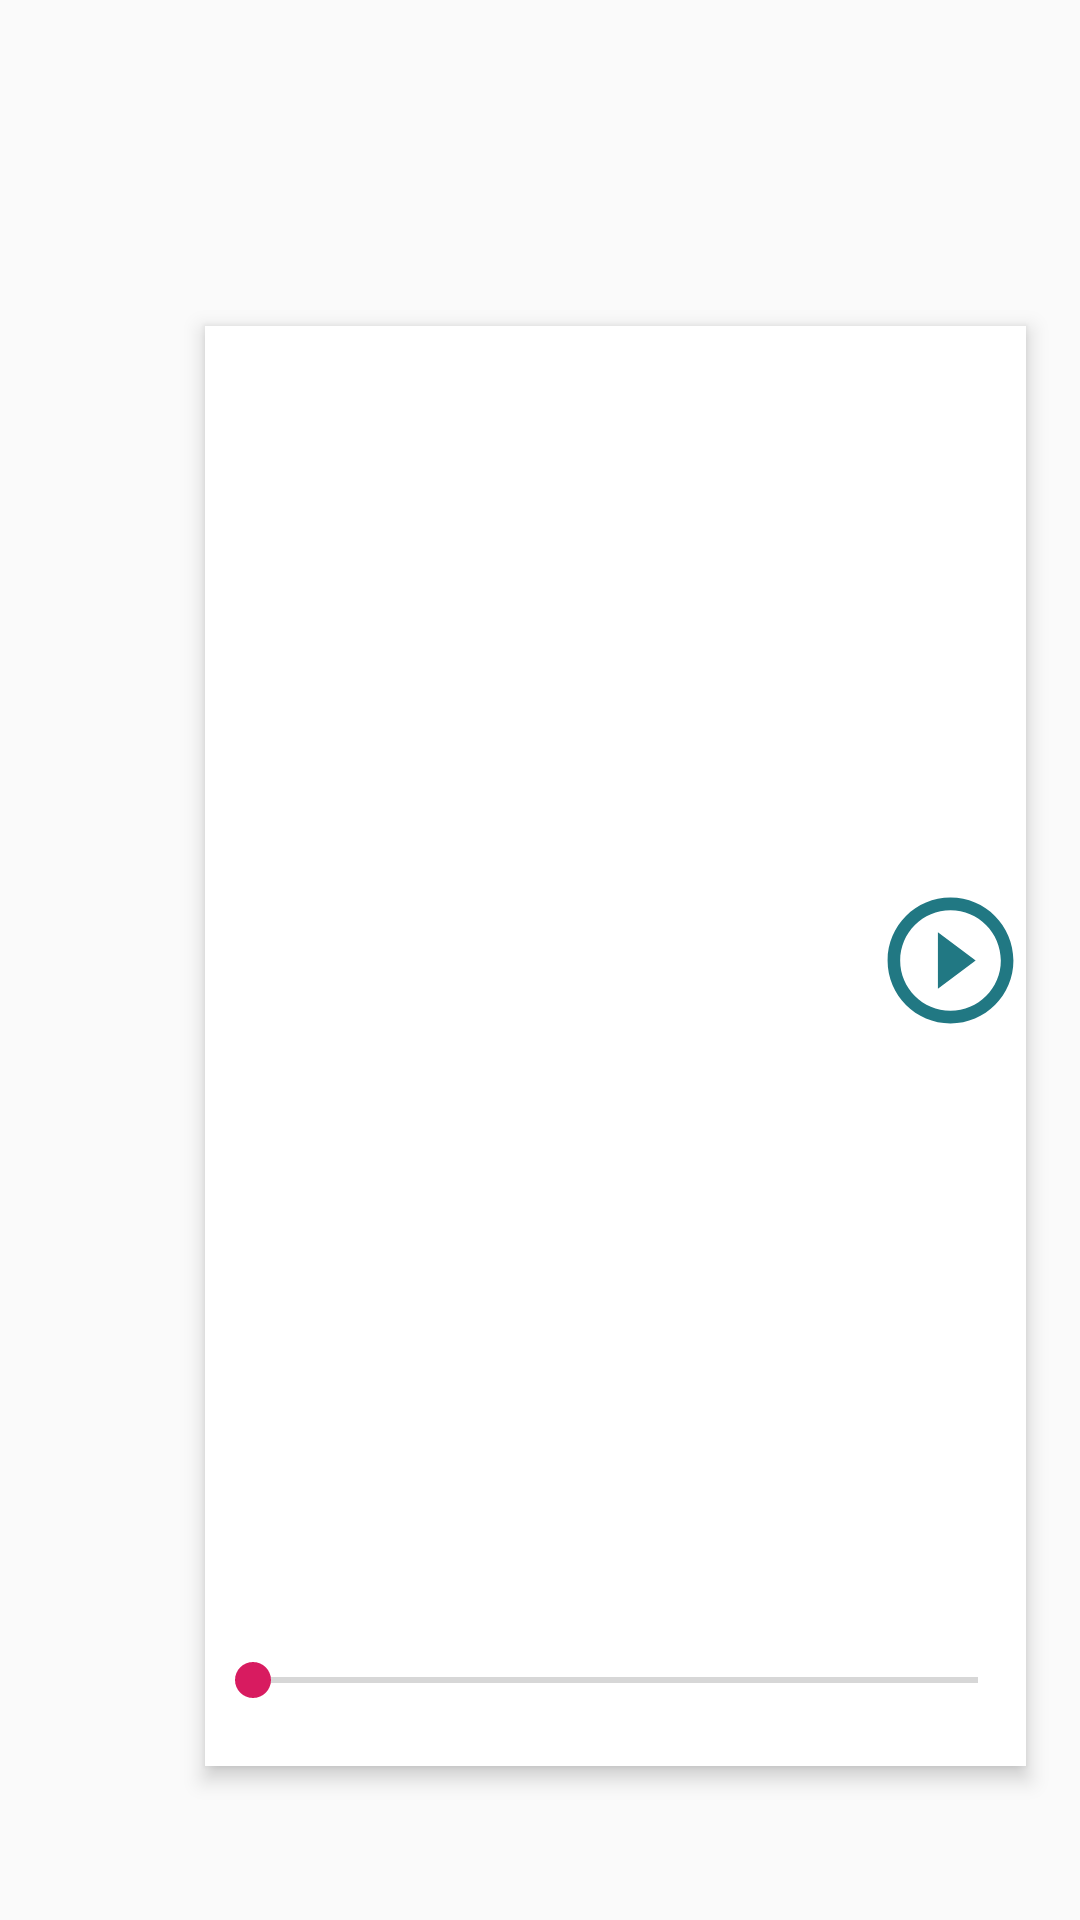

Icons on this 1080×1920 Android screen, each with its box as region(x1, y1, x2, y2):
play circle: region(887, 897, 1014, 1024)
